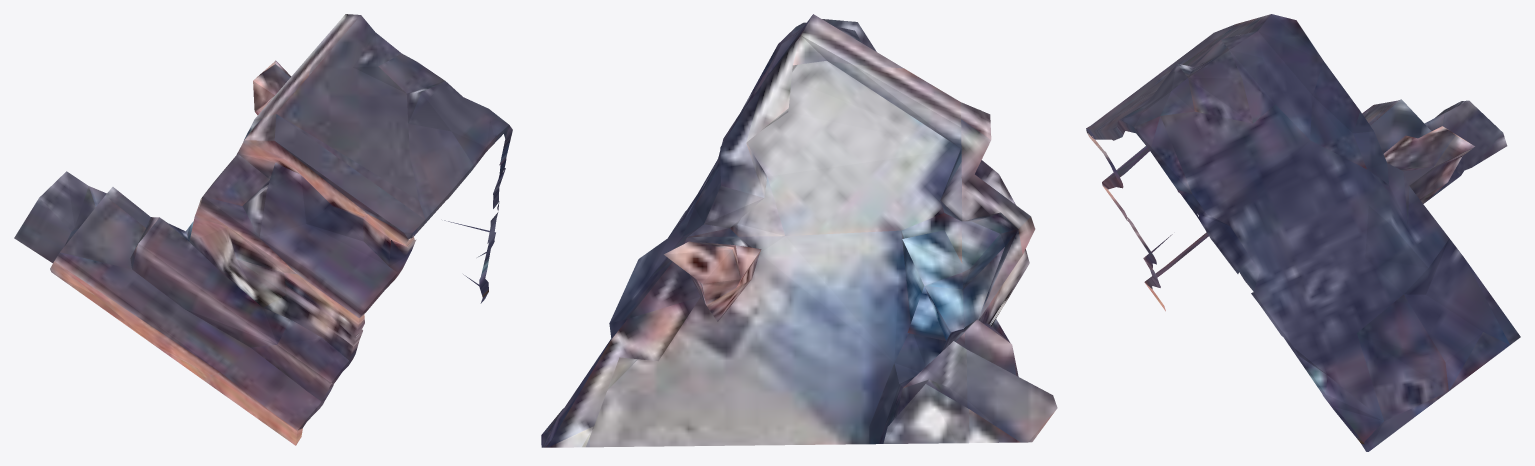
The picture shows the model from 3 angles, left to right: view 1: azimuth 30°, elevation 25°; view 2: azimuth 150°, elevation 25°; view 3: azimuth 270°, elevation 25°; orthographic projection. The views are drawn at different scales.
Bounding box in the file's own units: 21.96 × 17.7 × 19.44.
1 material, 1 textured.
